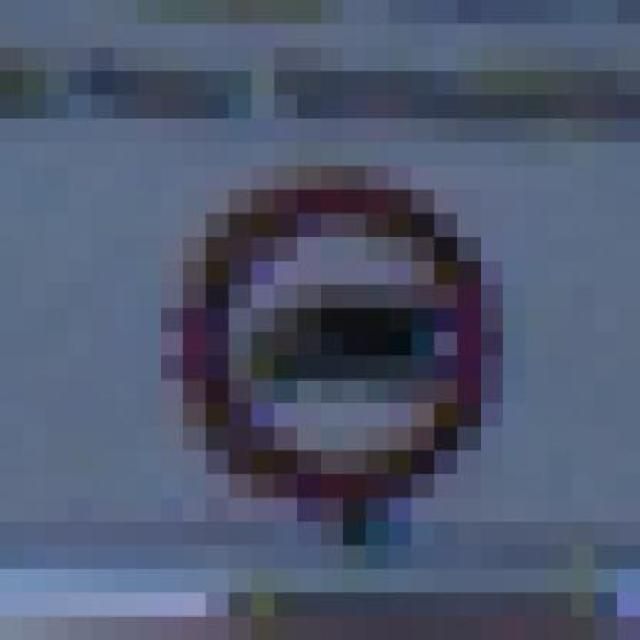Truck traffic is prohibited: (120, 165, 578, 544)
